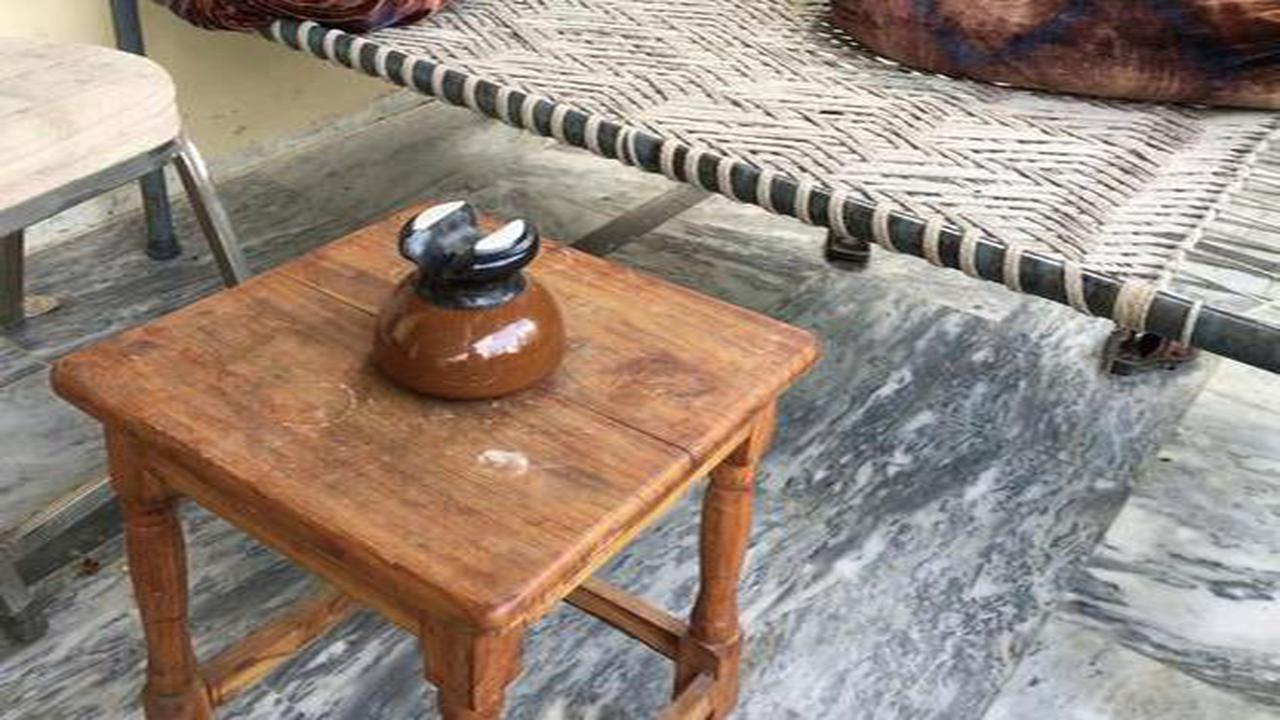insulator_pin: (364, 181, 576, 414)
